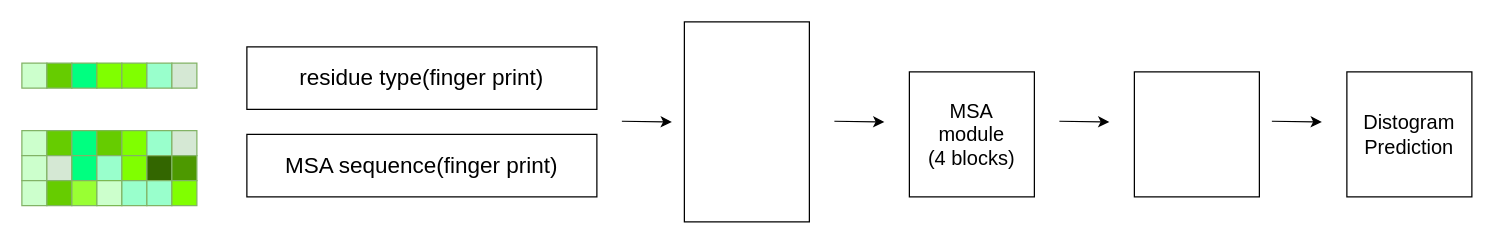
Some shapes in this 1494 by 244 pixel diagram are drawn without their labels. The shapes that lost their labels are listed below. From the top down, each one's box as (x1, y1, x2, y2) in pixels, then its label:
(683, 21, 809, 222): Input Embedder
(1133, 71, 1259, 197): PairFormer (2 blocks)
